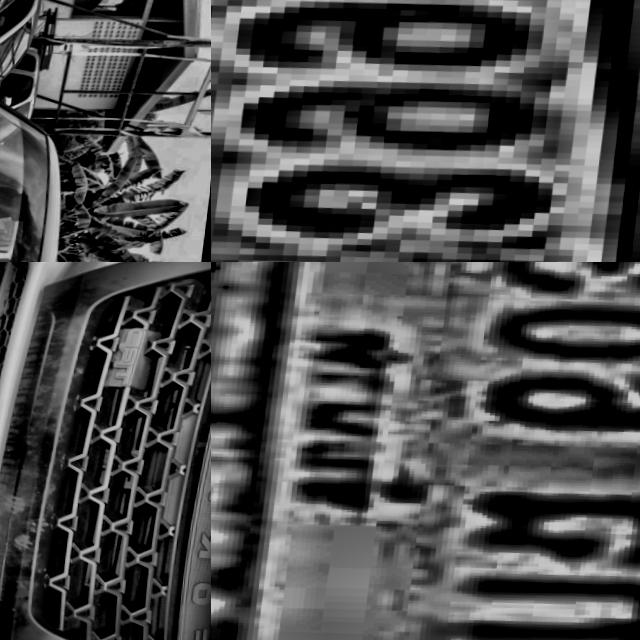license-plate: (211, 262, 640, 640), (211, 0, 640, 262)
